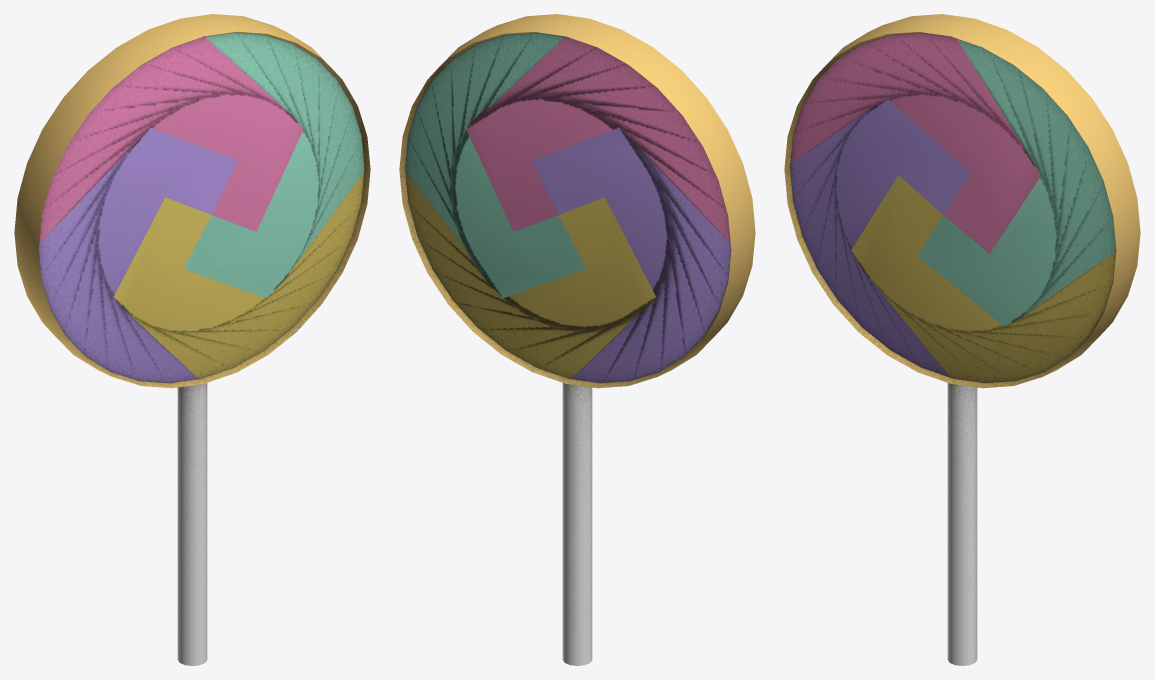
The picture shows the model from 3 angles, left to right: view 1: azimuth 30°, elevation 25°; view 2: azimuth 150°, elevation 25°; view 3: azimuth 330°, elevation 25°; orthographic projection.
Visible parts, largest first — view 1: Candy_Pink, Candy_Lavender, Candy_Mint, Candy_Lemon, Polished_Gold_Rim, White_Lollipop_Stick; view 2: Candy_Pink, Candy_Lavender, Candy_Mint, Candy_Lemon, Polished_Gold_Rim, White_Lollipop_Stick; view 3: Candy_Mint, Candy_Pink, Candy_Lemon, Candy_Lavender, Polished_Gold_Rim, White_Lollipop_Stick.
Boxes of the visible parts, bbox=[...] form: Candy_Pink: bbox=[39, 36, 303, 243]; Candy_Lavender: bbox=[38, 128, 237, 382]; Candy_Mint: bbox=[184, 32, 364, 298]; Candy_Lemon: bbox=[114, 171, 364, 378]; Polished_Gold_Rim: bbox=[14, 14, 370, 388]; White_Lollipop_Stick: bbox=[177, 383, 207, 665]; Candy_Pink: bbox=[466, 36, 730, 243]; Candy_Lavender: bbox=[532, 128, 731, 382]; Candy_Mint: bbox=[405, 32, 585, 298]; Candy_Lemon: bbox=[405, 171, 655, 378]; Polished_Gold_Rim: bbox=[399, 14, 755, 388]; White_Lollipop_Stick: bbox=[562, 383, 592, 665]; Candy_Mint: bbox=[917, 38, 1116, 326]; Candy_Pink: bbox=[790, 32, 1040, 253]; Candy_Lemon: bbox=[851, 175, 1116, 382]; Candy_Lavender: bbox=[790, 99, 970, 377]; Polished_Gold_Rim: bbox=[784, 14, 1140, 388]; White_Lollipop_Stick: bbox=[947, 383, 977, 665].
Bounding box in the file's own units: 0.55 × 0.99 × 0.108.
6 materials, 6 textured.
